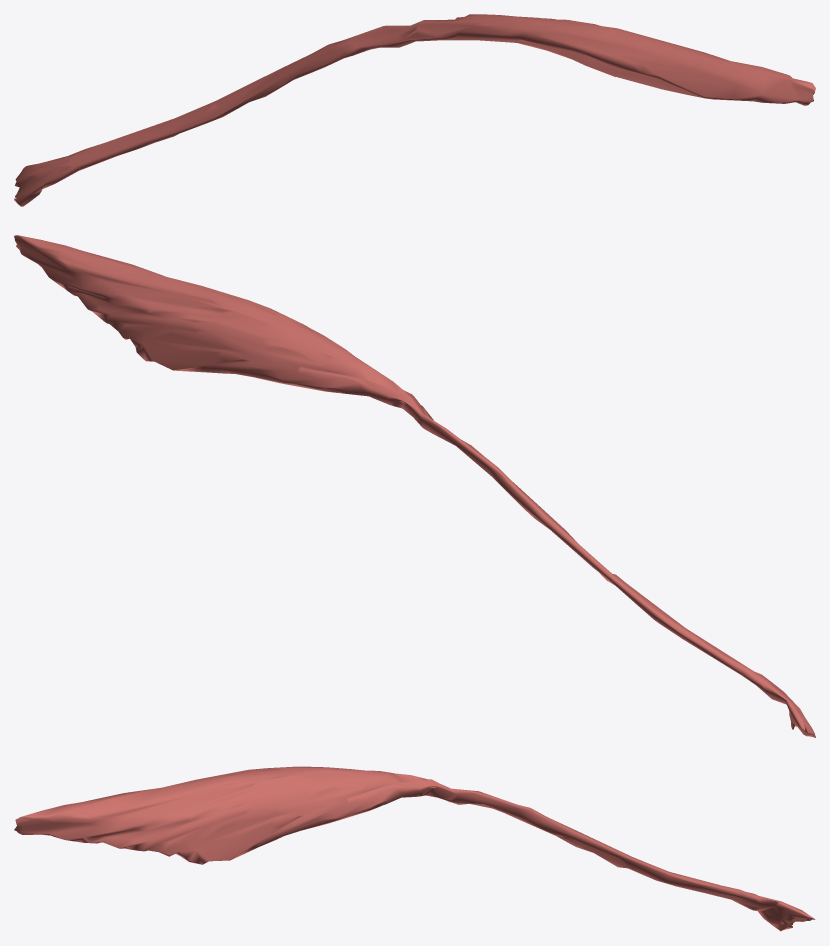
3 renders of one model, top to bottom at view 1: azimuth 30°, elevation 25°; view 2: azimuth 210°, elevation 25°; view 3: azimuth 270°, elevation 25°, orthographic. The views are drawn at different scales.
Visible parts, largest first — view 1: 右侧拇短伸肌; view 2: 右侧拇短伸肌; view 3: 右侧拇短伸肌.
Part boxes in pixels (bbox=[...]): 右侧拇短伸肌: bbox=[14, 14, 815, 206]; 右侧拇短伸肌: bbox=[14, 235, 815, 737]; 右侧拇短伸肌: bbox=[14, 766, 815, 931].
Bounding box in the file's own units: 0.1164 × 0.0864 × 0.2067.
